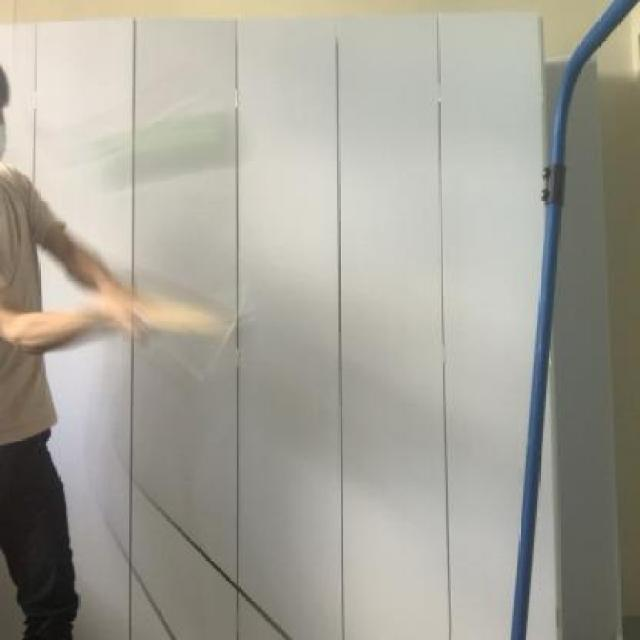baseball: (88, 102, 282, 189)
